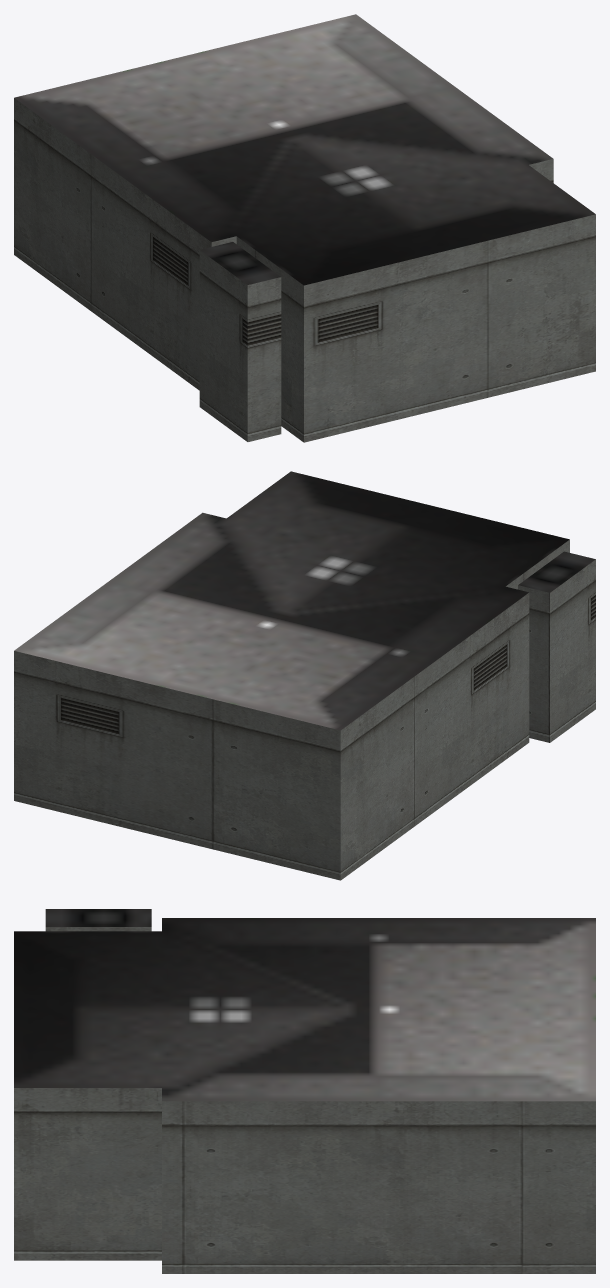
File: BuildingSystem-02-Intermediate-02-Medium-3-37.glb
The picture shows the model from 3 angles, top to bottom: view 1: azimuth 30°, elevation 25°; view 2: azimuth 150°, elevation 25°; view 3: azimuth 270°, elevation 25°; orthographic projection. The views are drawn at different scales.
Visible parts, largest first — view 1: buildings/saxarba/SMV_Buildings/BuildingSystem-02-Intermedia; view 2: buildings/saxarba/SMV_Buildings/BuildingSystem-02-Intermedia; view 3: buildings/saxarba/SMV_Buildings/BuildingSystem-02-Intermedia.
Boxes of the visible parts, bbox=[...] form: buildings/saxarba/SMV_Buildings/BuildingSystem-02-Intermedia: bbox=[14, 14, 595, 442]; buildings/saxarba/SMV_Buildings/BuildingSystem-02-Intermedia: bbox=[14, 471, 595, 880]; buildings/saxarba/SMV_Buildings/BuildingSystem-02-Intermedia: bbox=[14, 909, 595, 1273].
Bounding box in the file's own units: 43 × 18 × 55.
